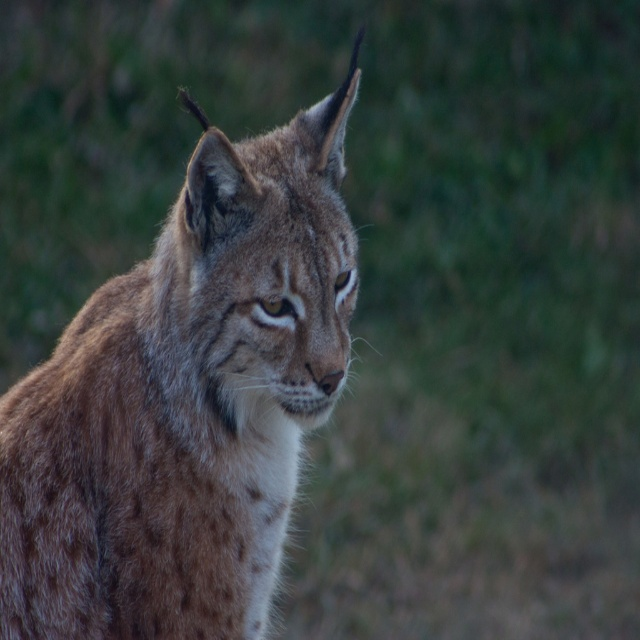Lynx: (1, 18, 383, 639)
